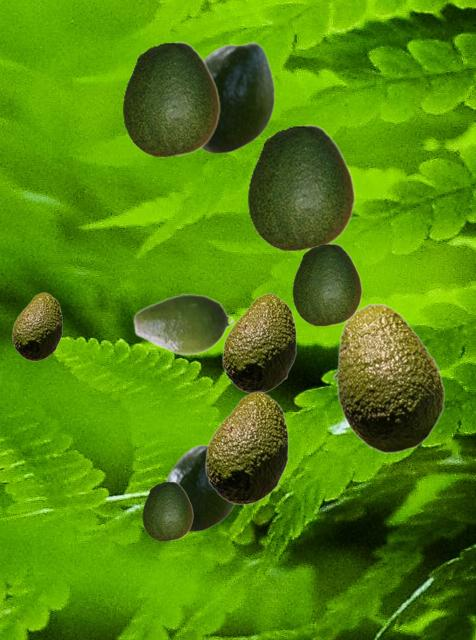avocado: (332, 303, 444, 452), (247, 124, 354, 250), (122, 41, 219, 156), (205, 391, 287, 504), (202, 41, 274, 153), (222, 293, 295, 393), (132, 292, 234, 355), (165, 443, 234, 531), (292, 243, 361, 325), (12, 292, 61, 360), (142, 481, 192, 540)
